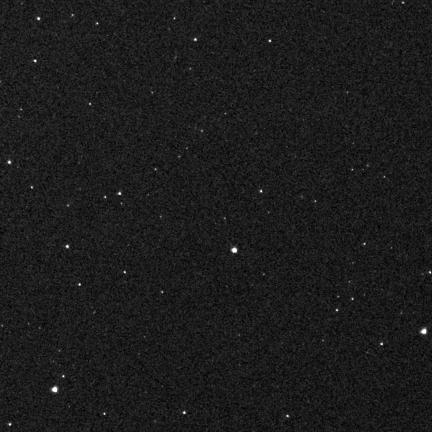blob: (231, 248, 237, 253)
